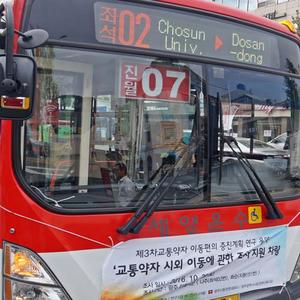07bus: (23, 46, 296, 297)
